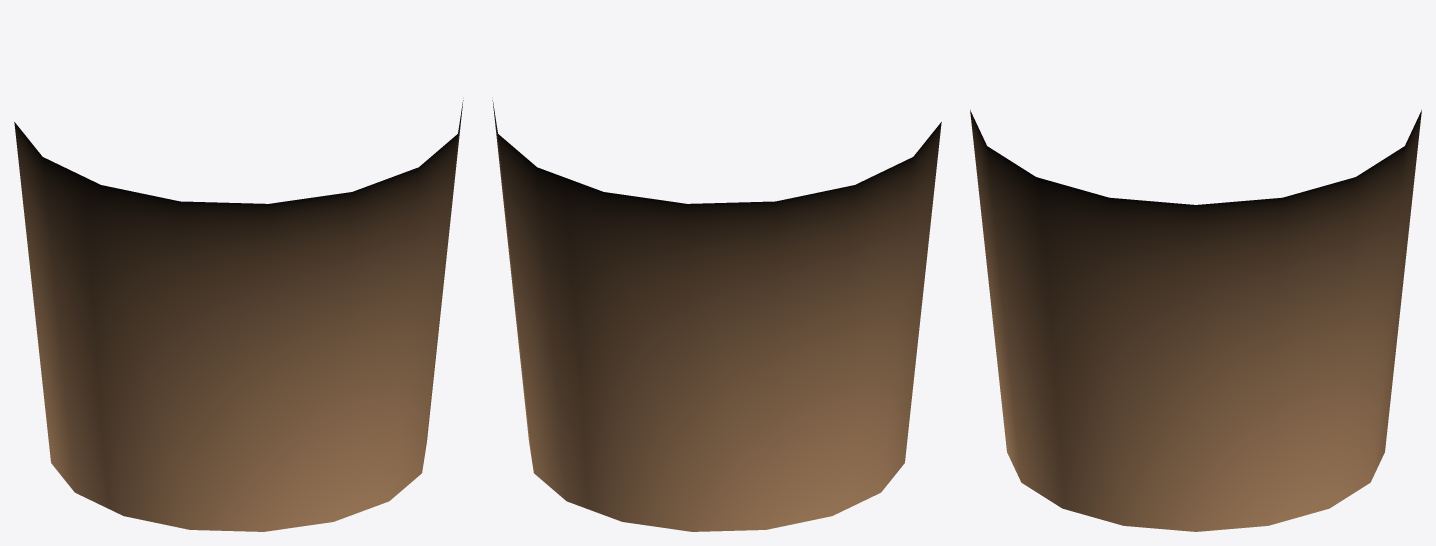
Rendered from circle_orange2.glb.
3 renders of one model, left to right at view 1: azimuth 30°, elevation 25°; view 2: azimuth 150°, elevation 25°; view 3: azimuth 270°, elevation 25°, orthographic.
Visible parts, largest first — view 1: Cylinder; view 2: Cylinder; view 3: Cylinder.
Part boxes in pixels (left/top/right/bottom): Cylinder: left=14, top=100, right=463, bottom=531; Cylinder: left=492, top=100, right=941, bottom=531; Cylinder: left=970, top=110, right=1421, bottom=531.
Size of the model in its own units: 2.39 by 2 by 2.39.
